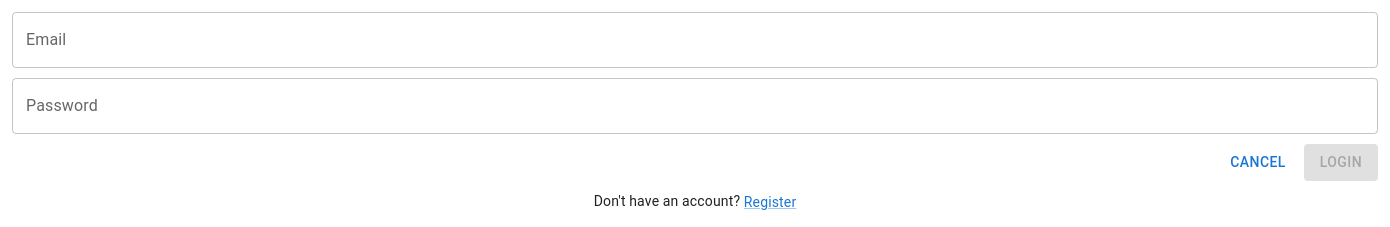
Test: AuthForm › disables submit until the required fields are filled
Expected: the button "Login" is disabled, [1304,144,1378,180]
Type "a@test.com" into the field labelled "Email" at (695, 40), box [12,12,1378,68]
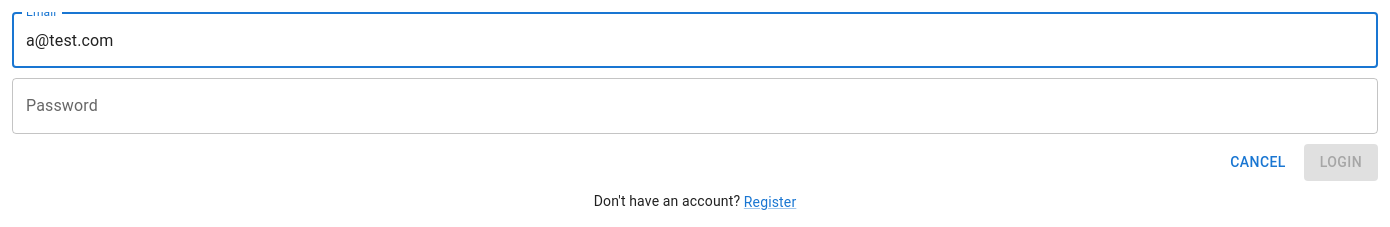
Type "12345" into the password field labelled "Password" at (695, 106), box [12,78,1378,134]
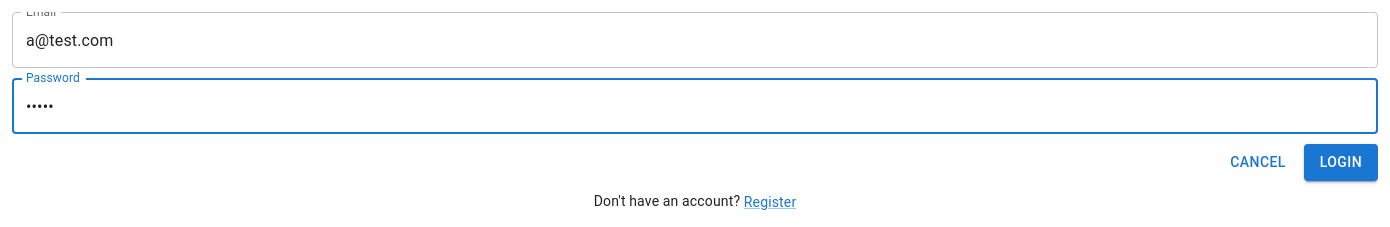
Now the button "Login" is enabled, box [1304,144,1378,180]
